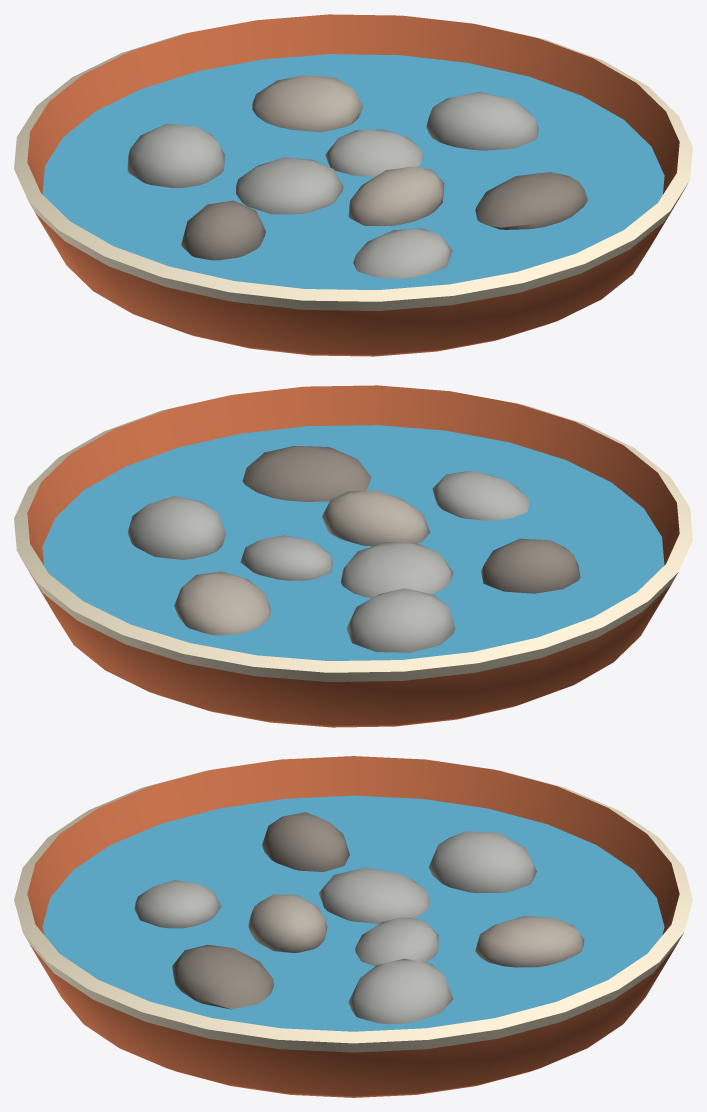
Rendered from pebble_dish.fbx.
3 views of the same model, one above another, from view 1: azimuth 30°, elevation 25°; view 2: azimuth 150°, elevation 25°; view 3: azimuth 270°, elevation 25° (orthographic).
Parts seen in each view (by area): view 1: Water, Dish, Pebbles; view 2: Water, Dish, Pebbles; view 3: Water, Dish, Pebbles.
Part boxes in pixels (x1,y1,x2,y2): Water: (42, 54, 664, 289); Dish: (14, 14, 692, 356); Pebbles: (127, 75, 587, 278); Water: (42, 425, 664, 660); Dish: (14, 385, 692, 727); Pebbles: (127, 446, 580, 652); Water: (42, 795, 664, 1031); Dish: (14, 756, 692, 1097); Pebbles: (134, 812, 584, 1024).
Bounding box in the file's own units: 0.204 × 0.0288 × 0.204.
1 material, 1 textured.
